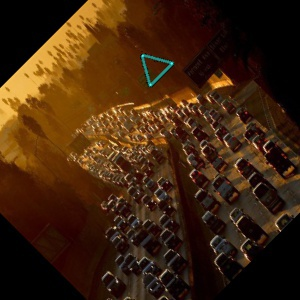triangle: (139, 52, 176, 89)
